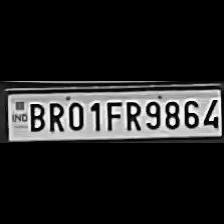0: (64, 99, 86, 131)
1: (85, 100, 103, 132)
4: (200, 96, 220, 128)
6: (180, 97, 198, 129)
8: (162, 97, 180, 130)
9: (142, 97, 160, 130)
B: (25, 100, 45, 132)
F: (101, 98, 121, 132)
R: (122, 98, 142, 132), (46, 99, 64, 133)
